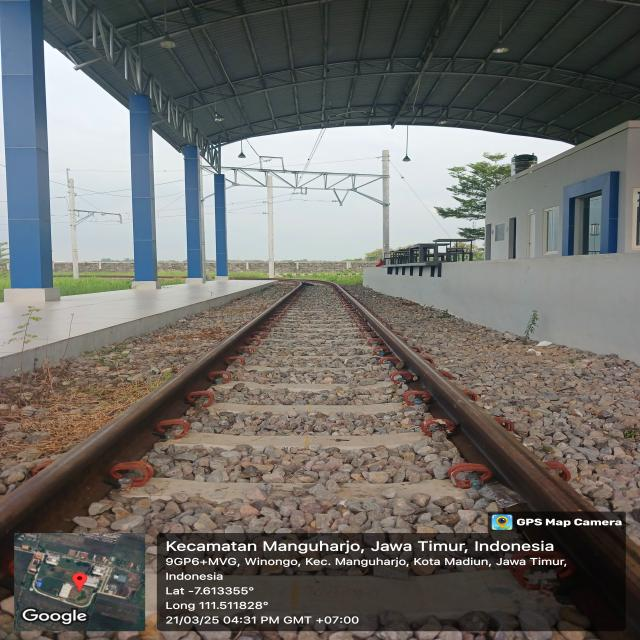rail-detection: (0, 282, 305, 566), (324, 283, 614, 521), (543, 525, 640, 629)
